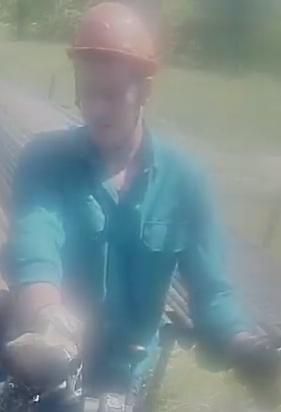gloves: (0, 294, 88, 385), (228, 325, 281, 398)
helmet: (62, 0, 159, 76)
vest: (5, 125, 218, 359)
